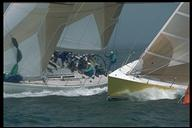sailboat: (4, 4, 126, 98), (106, 1, 192, 105)
sky: (125, 6, 145, 48), (65, 28, 97, 48)
water: (5, 102, 176, 128)
